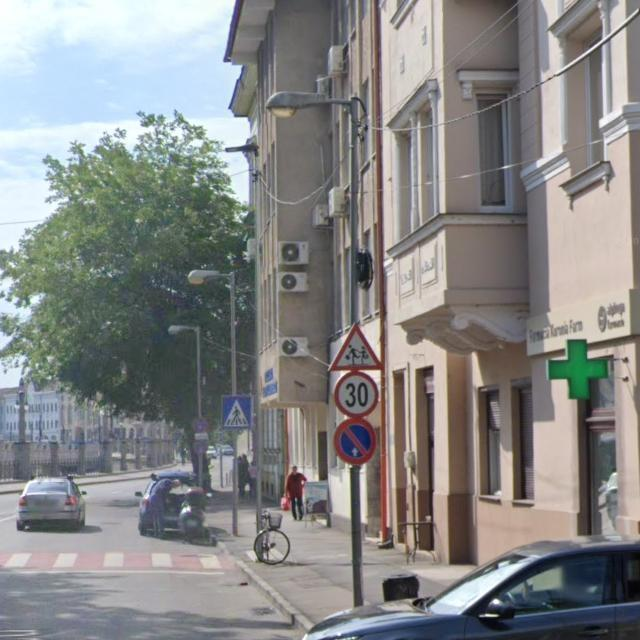forb_speed_over_30: (334, 371, 379, 418)
forb_waiting: (195, 419, 209, 433)
info_crosswalk: (222, 395, 252, 430)
